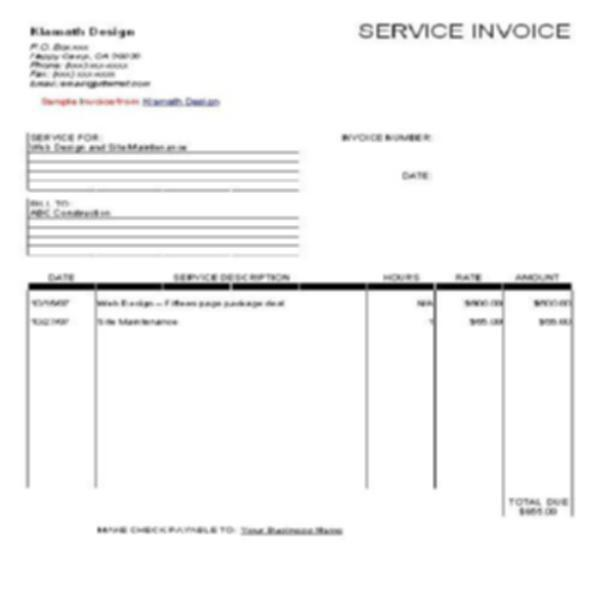test: (27, 283, 573, 515)
